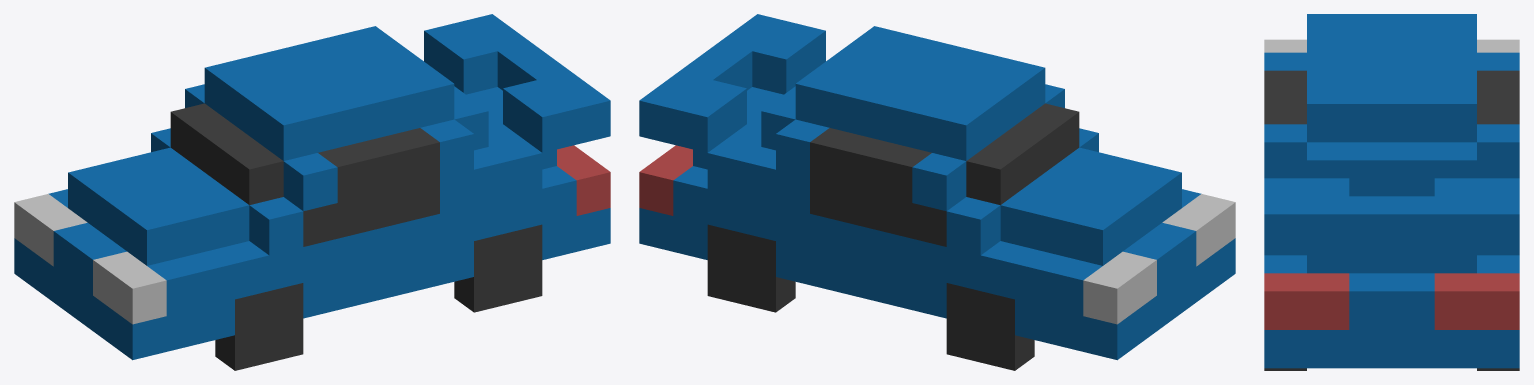
File: racer-v3-blue.gltf
The picture shows the model from 3 angles, left to right: view 1: azimuth 30°, elevation 25°; view 2: azimuth 150°, elevation 25°; view 3: azimuth 270°, elevation 25°; orthographic projection. The views are drawn at different scales.
Visible parts, largest first — view 1: model, wheels; view 2: model, wheels; view 3: model, wheels.
Boxes of the visible parts, box(x1,y1,x2,y2) form: model: box(14, 14, 610, 360); wheels: box(215, 224, 542, 370); model: box(639, 14, 1235, 360); wheels: box(707, 224, 1034, 370); model: box(1264, 14, 1519, 368); wheels: box(1264, 368, 1519, 370).
Size of the model in its own units: 1.4 by 0.6 by 0.6.
2 materials, 2 textured.
